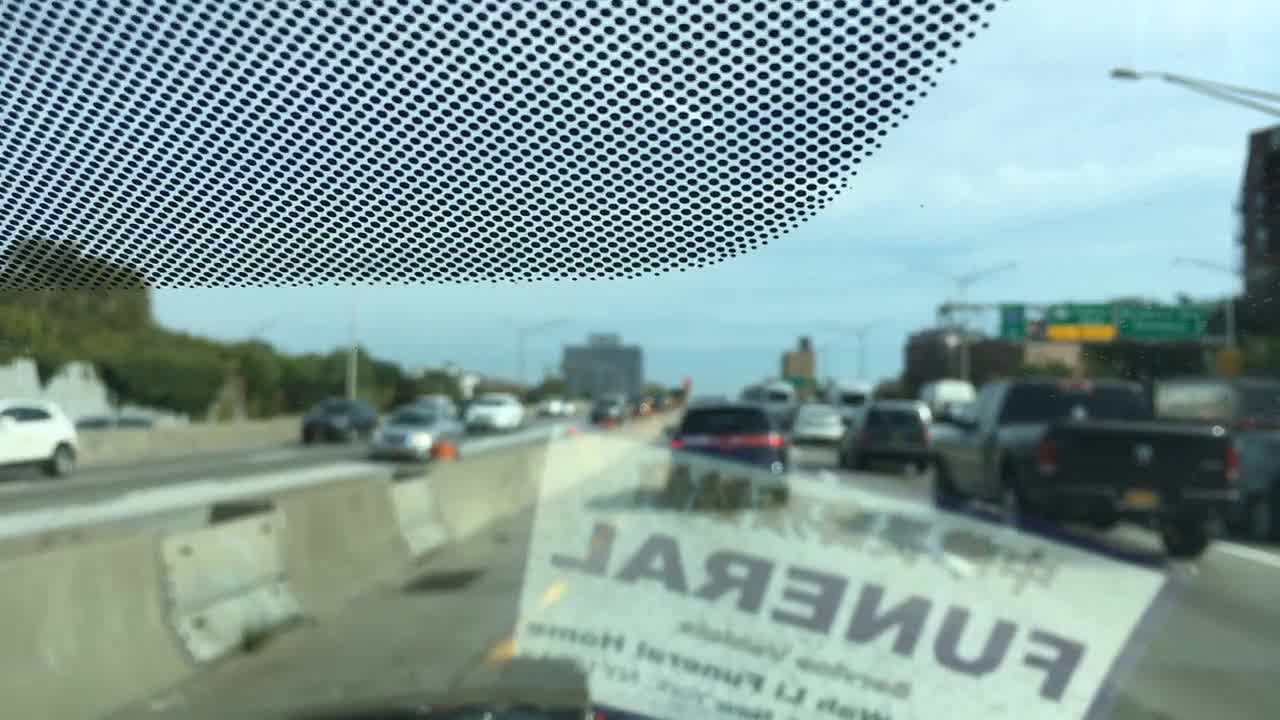bus: (749, 378, 798, 431), (925, 378, 975, 420), (832, 379, 872, 419)
car: (926, 366, 1243, 560), (661, 402, 792, 511), (833, 396, 932, 477), (0, 400, 81, 484), (366, 403, 464, 464), (299, 396, 377, 444), (69, 405, 181, 435), (466, 387, 523, 432), (792, 400, 844, 445), (409, 390, 460, 413), (594, 388, 626, 424), (538, 394, 579, 416), (636, 398, 655, 416)
traffic sign: (1119, 300, 1204, 337), (1045, 299, 1115, 338), (1001, 304, 1025, 334)
truck: (1152, 373, 1278, 536)
